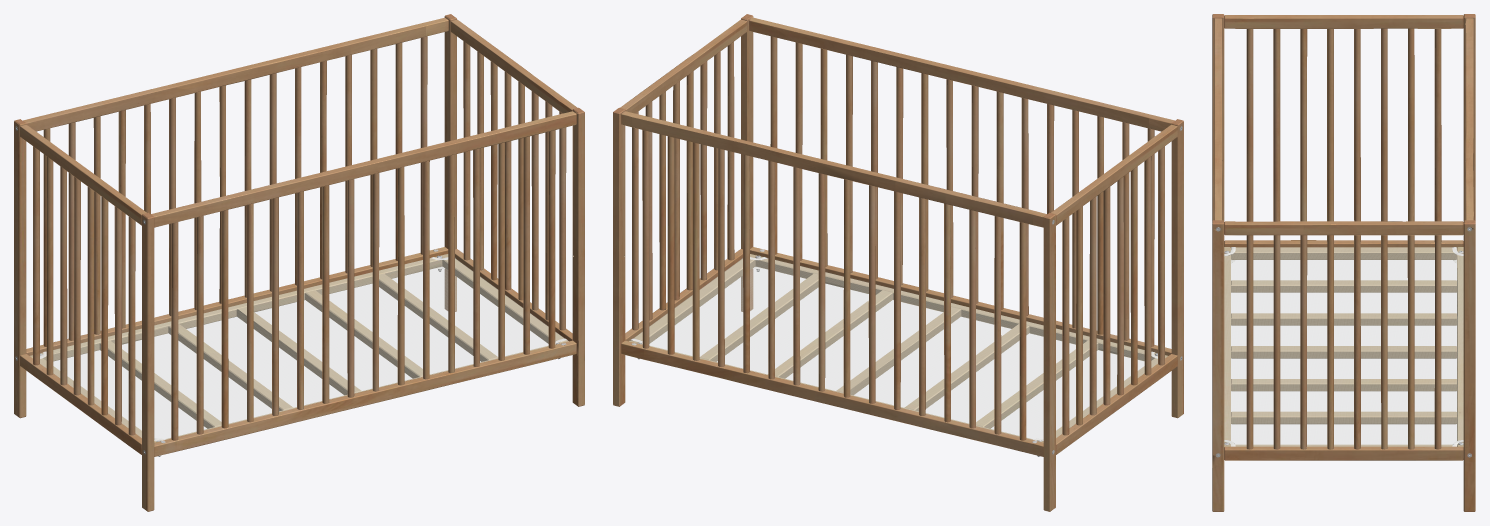
File: sniglar_ozko_dzieciece_30248537.glb
The picture shows the model from 3 angles, left to right: view 1: azimuth 30°, elevation 25°; view 2: azimuth 150°, elevation 25°; view 3: azimuth 270°, elevation 25°; orthographic projection.
Visible parts, largest first — view 1: sniglar_ozko_dzieciece_30248537; view 2: sniglar_ozko_dzieciece_30248537; view 3: sniglar_ozko_dzieciece_30248537.
Part boxes in pixels (<box>): sniglar_ozko_dzieciece_30248537: <box>14,14,584,511</box>; sniglar_ozko_dzieciece_30248537: <box>613,14,1183,511</box>; sniglar_ozko_dzieciece_30248537: <box>1212,14,1475,511</box>.
Bounding box in the file's own units: 1.24 × 0.7935 × 0.656.
Materials: 2 (2 with a texture image).
